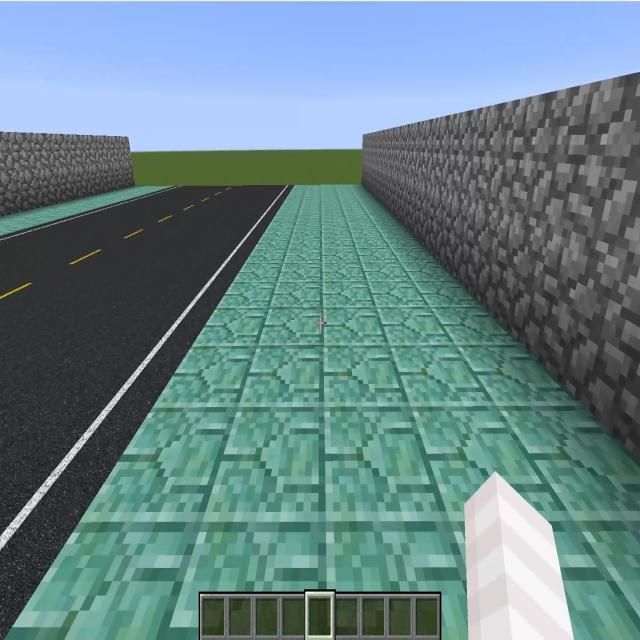road: (0, 187, 290, 638)
sidewalk: (9, 186, 640, 639), (0, 187, 164, 237)
